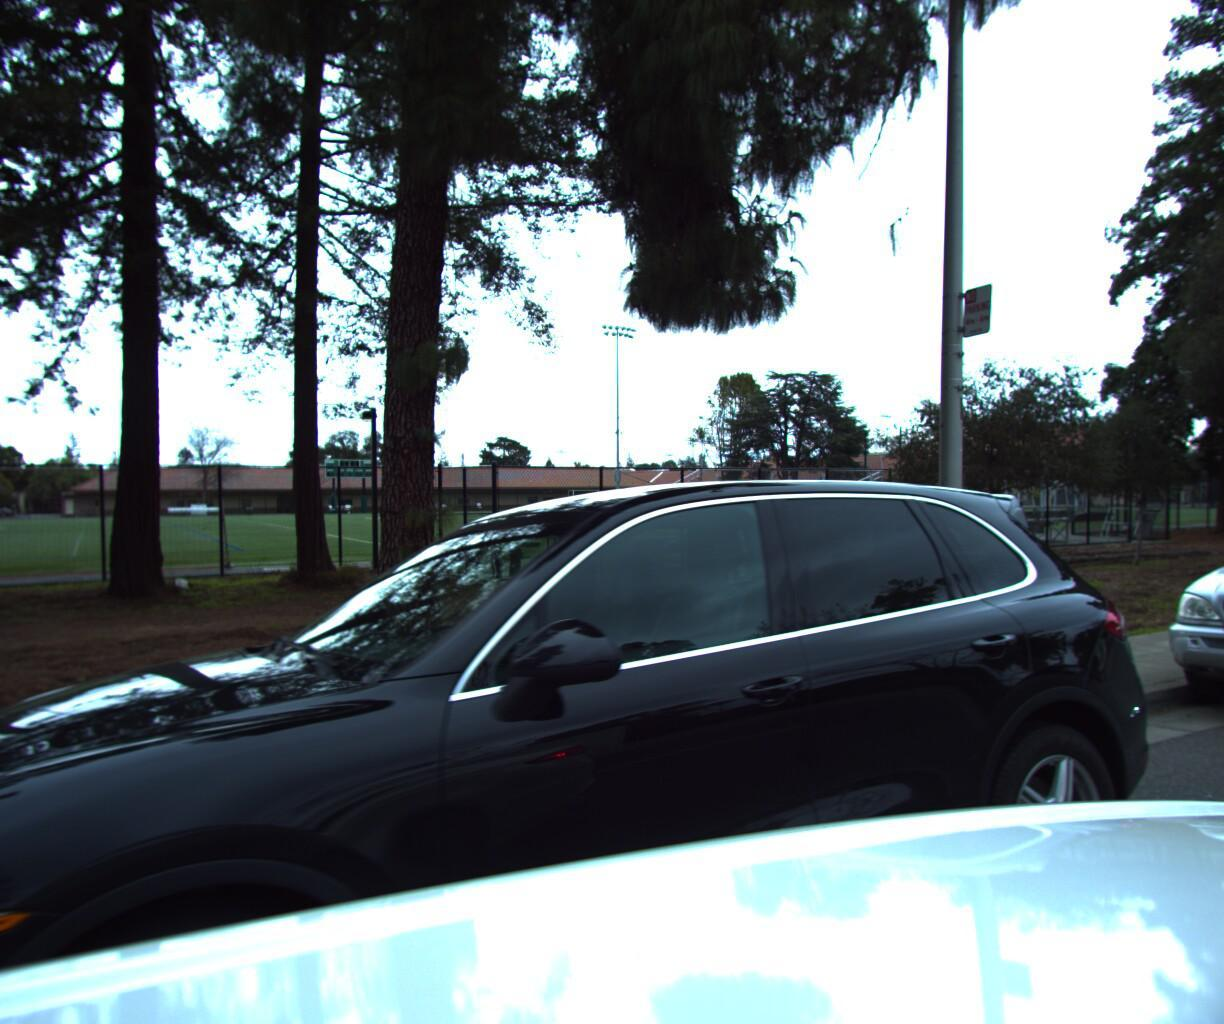car: (0, 450, 1208, 1024), (1143, 458, 1224, 770)
